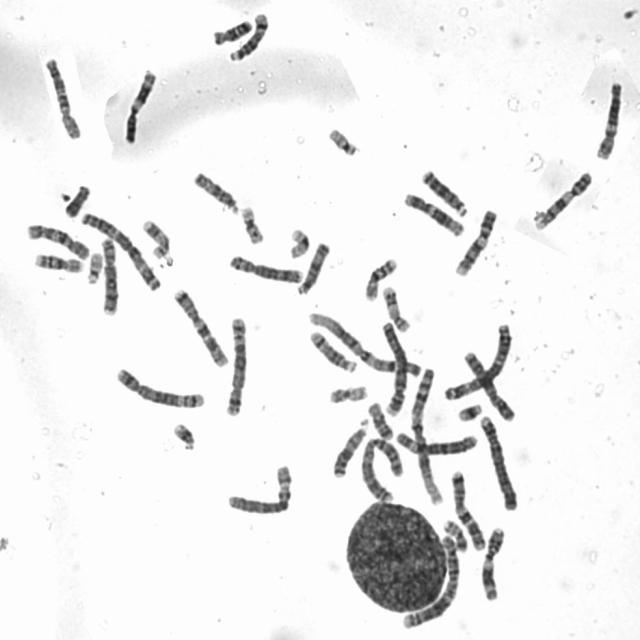A1: (303, 305, 425, 379), (406, 362, 445, 506)
A2: (398, 530, 462, 631), (357, 432, 405, 503)
A3: (77, 207, 162, 291), (440, 318, 513, 402)
B4: (476, 409, 520, 512), (376, 316, 408, 417)
B5: (110, 362, 207, 410), (221, 310, 249, 417)
C10: (38, 52, 82, 141), (22, 217, 92, 261)
C11: (119, 64, 159, 146), (476, 520, 507, 602)
C12: (399, 187, 466, 237), (591, 75, 625, 161)
C6: (222, 459, 294, 516), (390, 424, 480, 458)
C7: (168, 282, 231, 368), (446, 464, 488, 552)
C8: (224, 248, 305, 284), (96, 232, 120, 316)
C9: (528, 165, 595, 231), (450, 204, 500, 278)
D13: (417, 163, 470, 218), (328, 414, 371, 479)
D14: (305, 325, 359, 374), (224, 7, 270, 62)
D15: (188, 165, 241, 215), (292, 237, 332, 296)
E16: (360, 252, 400, 302), (29, 247, 84, 274)
E17: (378, 280, 412, 334), (138, 213, 171, 260)
E18: (208, 14, 254, 46), (364, 397, 396, 441)
F19: (236, 200, 265, 245), (284, 222, 312, 260)
F20: (324, 379, 370, 405), (438, 514, 469, 552)
G21: (169, 416, 197, 452), (454, 398, 484, 422)
G22: (324, 121, 361, 158), (82, 247, 104, 284)
X: (460, 346, 516, 422)
Y: (59, 178, 92, 219)
